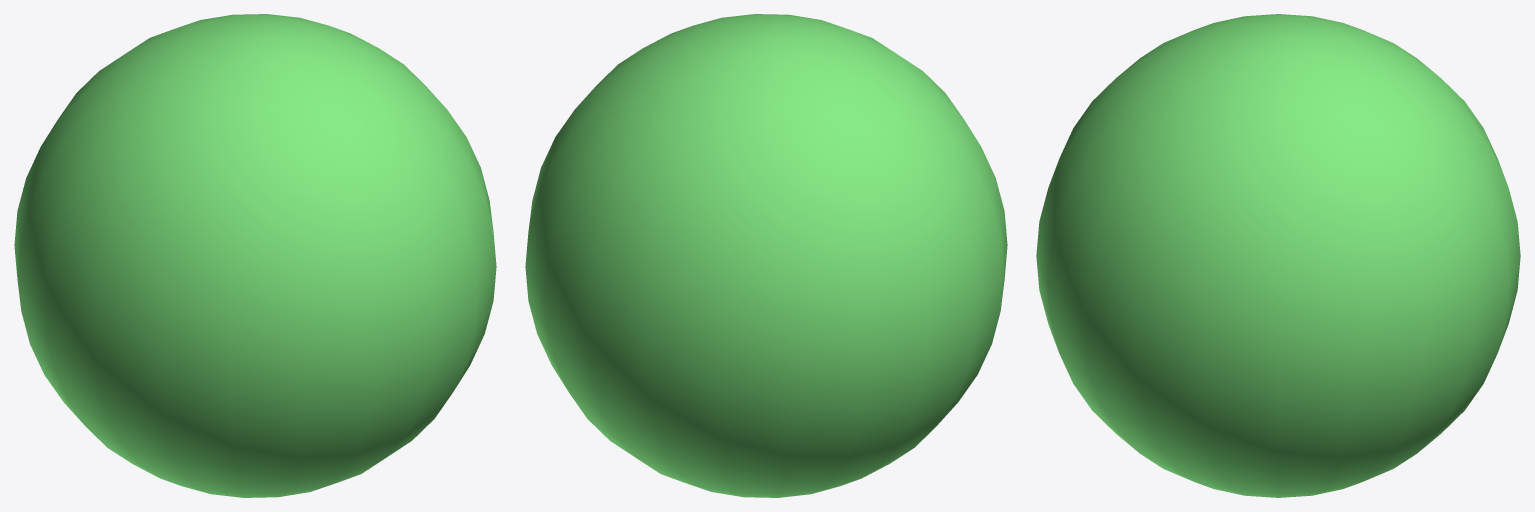
Rendered from ghoul.fbx.
3 renders of one model, left to right at view 1: azimuth 30°, elevation 25°; view 2: azimuth 150°, elevation 25°; view 3: azimuth 270°, elevation 25°, orthographic.
Parts seen in each view (by area): view 1: pSphere7; view 2: pSphere7; view 3: pSphere7.
Part boxes in pixels (x1,y1,x2,y2): pSphere7: (14,14,496,497); pSphere7: (525,14,1007,497); pSphere7: (1036,14,1520,497).
Size of the model in its own units: 14.61 by 14.61 by 14.61.
